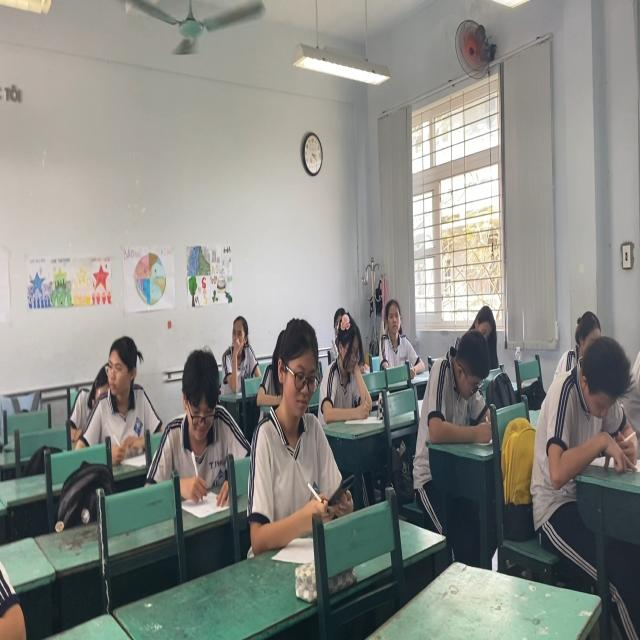cheating: (94, 333, 160, 443)
not_cheating: (255, 319, 338, 554), (535, 333, 640, 488), (163, 350, 242, 471), (424, 323, 498, 446), (318, 301, 370, 409), (376, 278, 422, 381), (214, 309, 260, 388)
